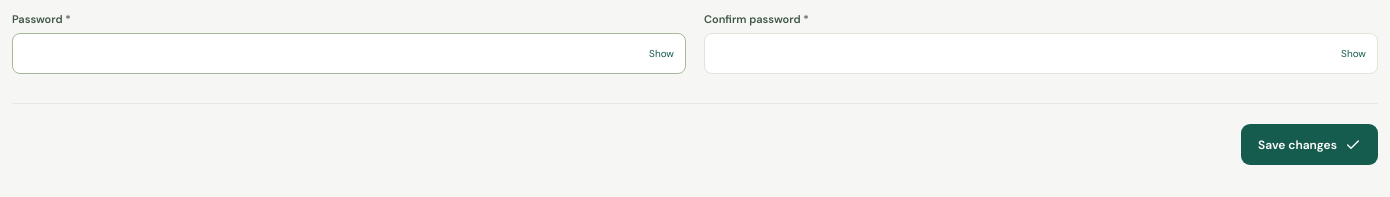
it: accessible contract-driven forms › validates matching registration passwords
Type "Password123" into the password field labelled "Password *". click: coordinates (349, 54)
box: [12,33,686,74]
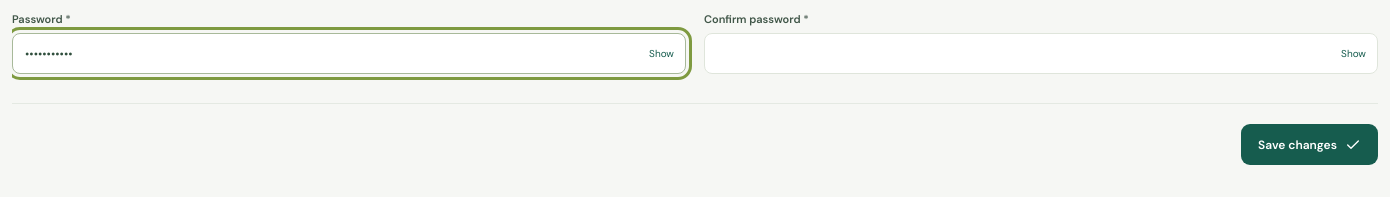
Type "Different123" into the password field labelled "Confirm password *". click: coordinates (1041, 54)
box: [704,33,1378,74]
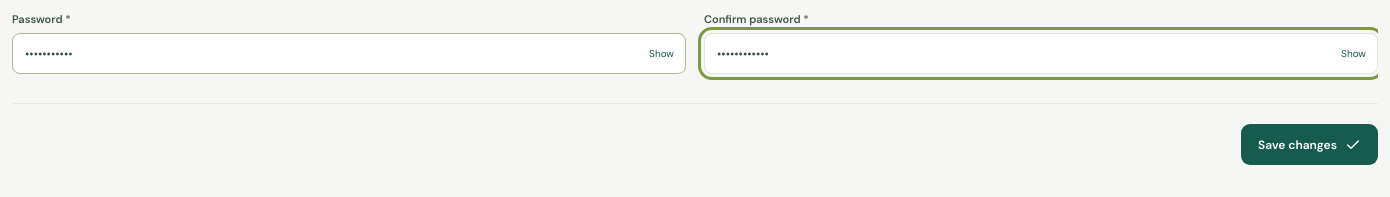
Click the button "Save changes". click: coordinates (1310, 144)
box: [1241,124,1378,165]
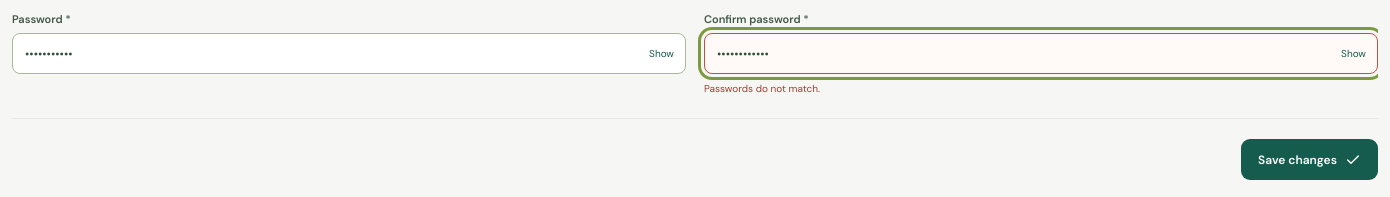
Now the text "Passwords do not match." is shown, box [704,82,820,95]
